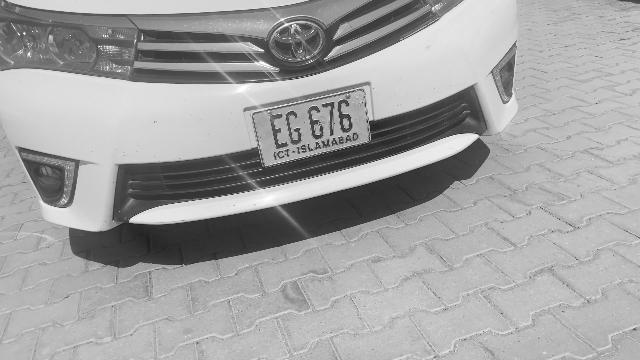Number: (263, 94, 355, 151)
